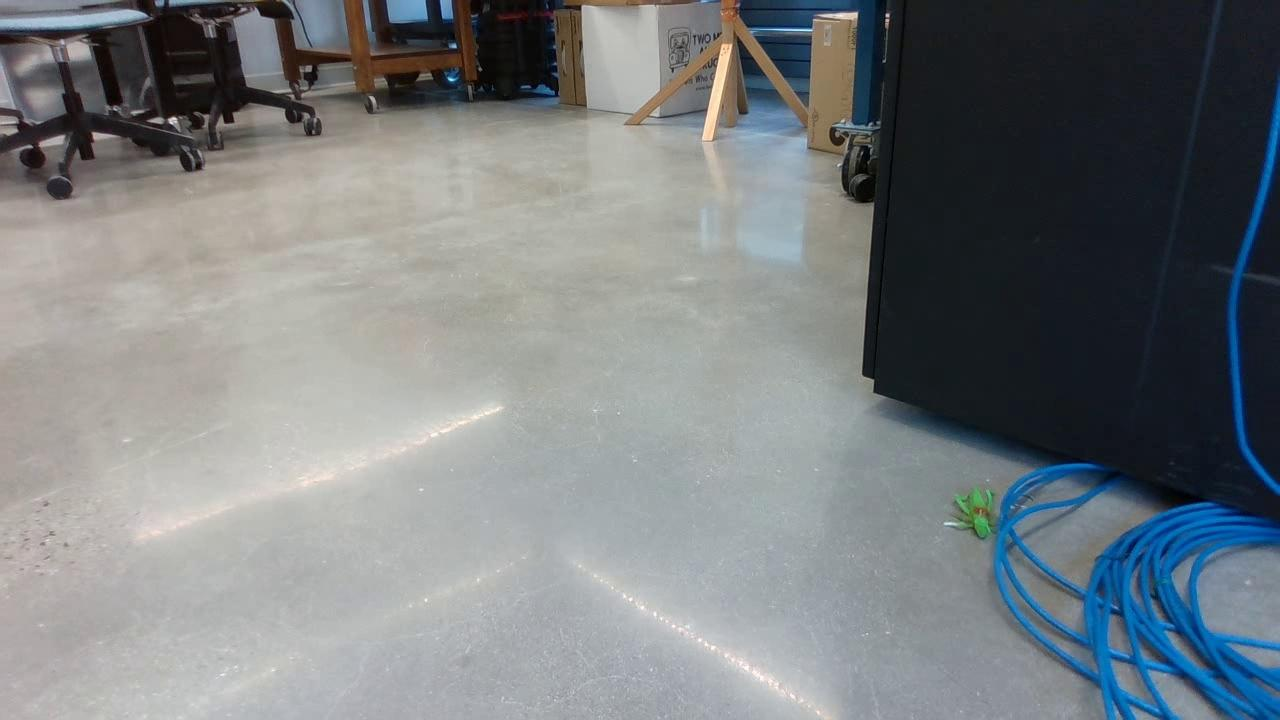grasshopper: (938, 474, 1008, 548)
